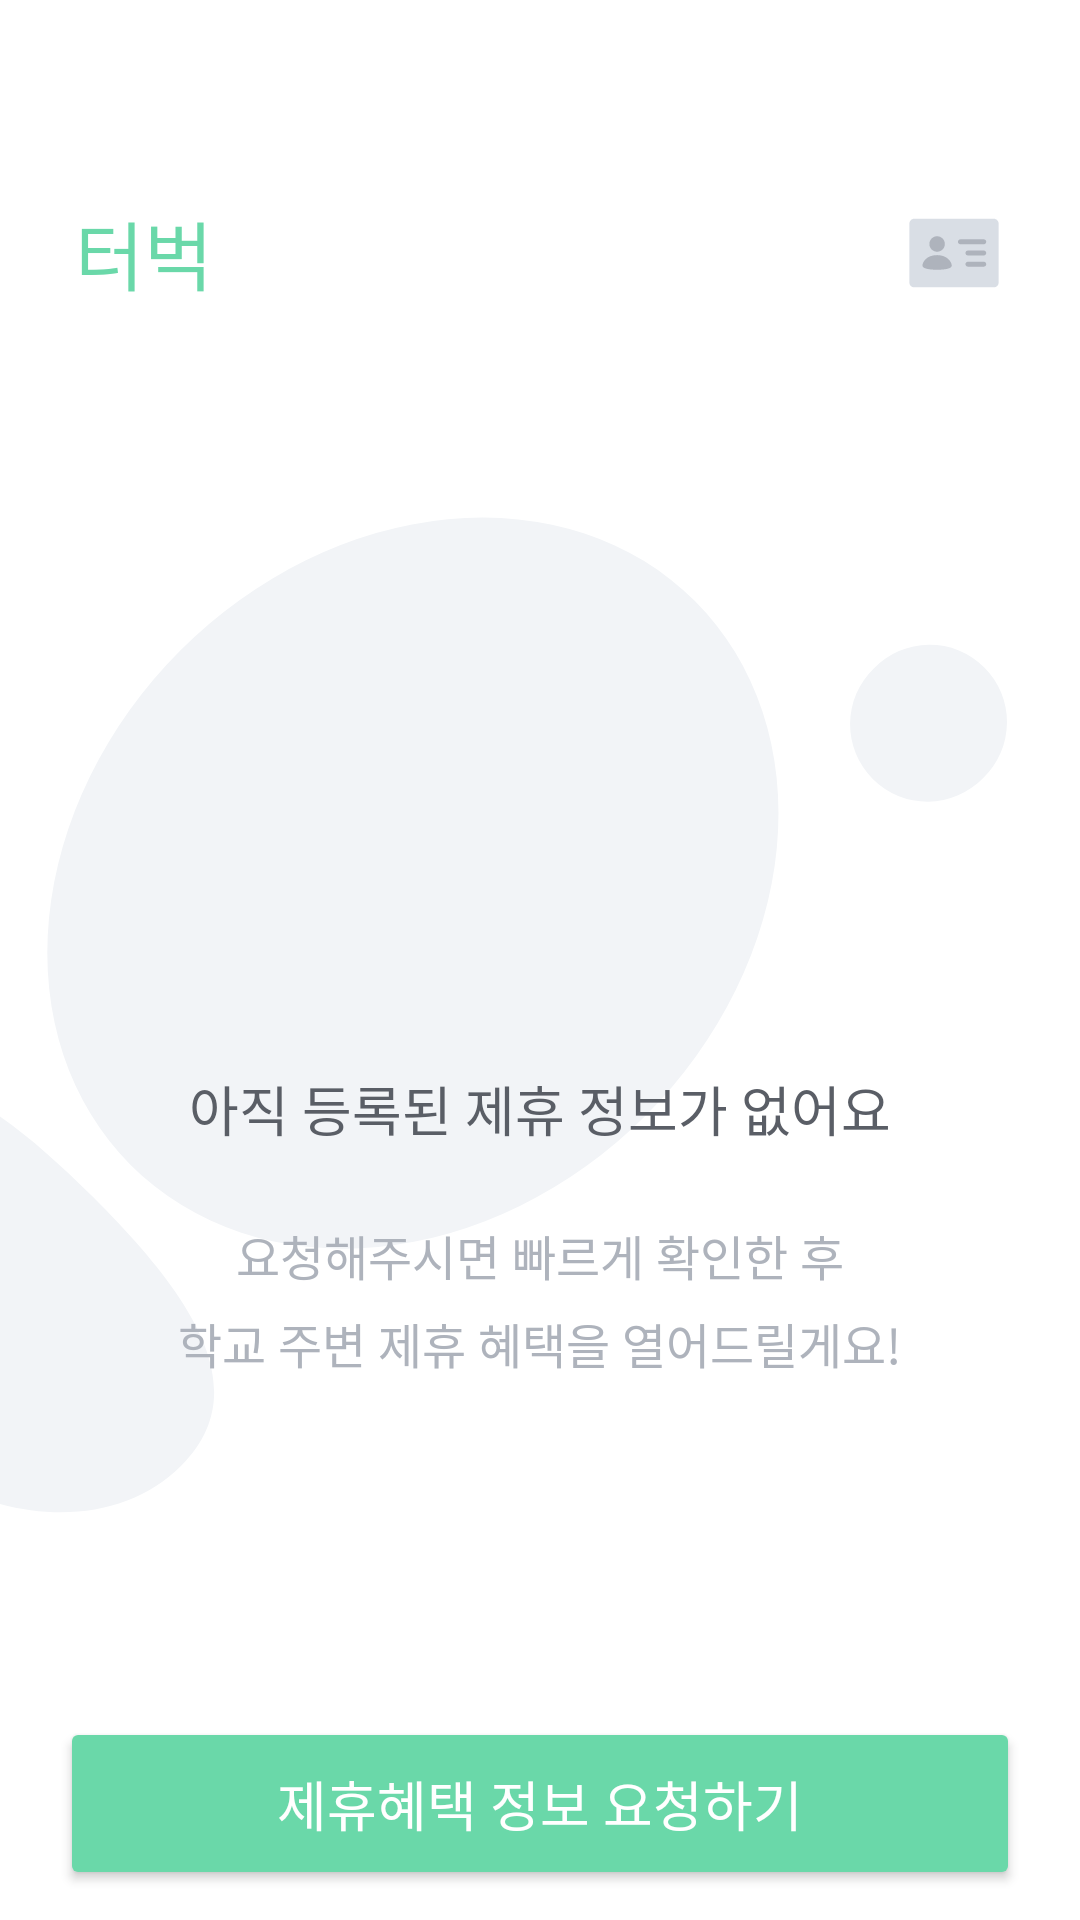

Icon bounding boxes for this 1080×1920 phone screenshot, format (x1=x1, y1=y1, x2=x2, y2=y2):
studentcard: (x1=910, y1=219, x2=998, y2=287)
